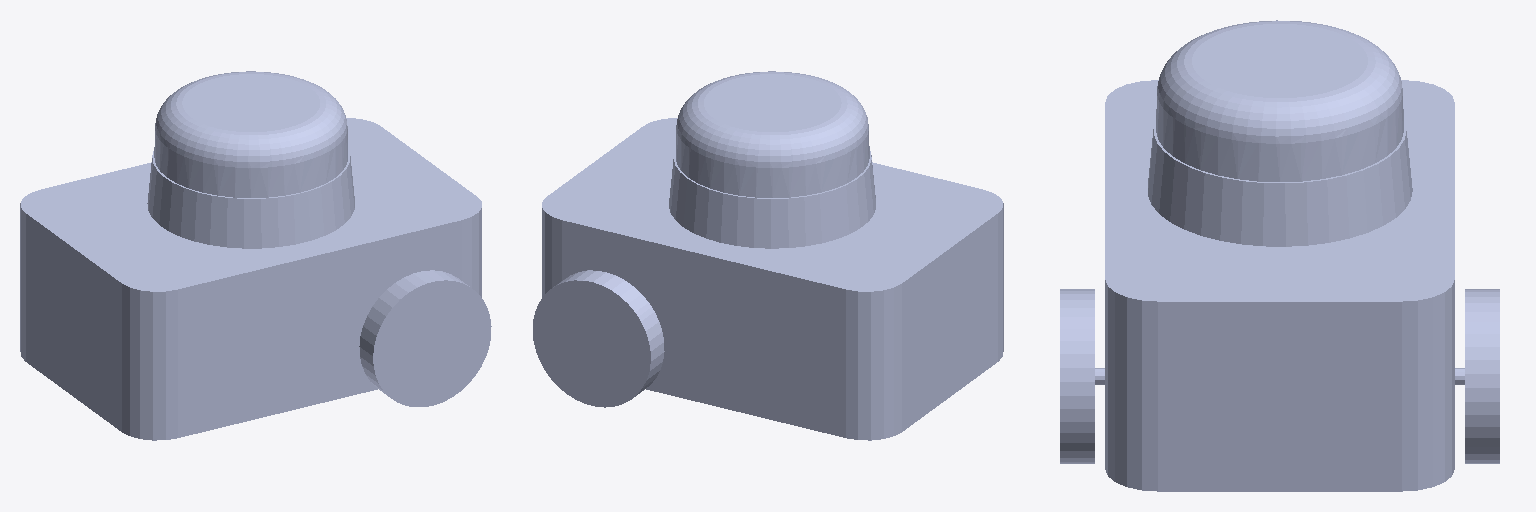
URDF robot description (urdf_robot):
<?xml version="1.0"?>

<robot
  name="urdf_robot">
  <!-- body -->
  <link
    name="base_link">
    <visual>
      <origin
        xyz="0 0 0"
        rpy="0 0 0" />
      <geometry>
        <mesh
          filename="package://urdf_robot/meshes/base_link.STL" />
      </geometry>
      <material
        name="">
        <color
          rgba="0.792156862745098 0.819607843137255 0.933333333333333 1" />
      </material>
    </visual>
    <collision>
      <origin
        xyz="0 0 0"
        rpy="0 0 0" />
      <geometry>
        <mesh
          filename="package://urdf_robot/meshes/base_link.STL" />
      </geometry>
    </collision>
  </link>

  <!-- left wheel -->
  <link
    name="left_wheel">
    <visual>
      <origin
        xyz="0 0 0"
        rpy="0 0 0" />
      <geometry>
        <mesh
          filename="package://urdf_robot/meshes/left_wheel.STL" />
      </geometry>
      <material
        name="">
        <color
          rgba="0.792156862745098 0.819607843137255 0.933333333333333 1" />
      </material>
    </visual>
    <collision>
      <origin
        xyz="0 0 0"
        rpy="0 0 0" />
      <geometry>
        <mesh
          filename="package://urdf_robot/meshes/left_wheel.STL" />
      </geometry>
    </collision>
  </link>
  <joint
    name="left_wheel_joint"
    type="continuous">
    <origin
      xyz="0.04 -0.053 0.02"
      rpy="1.5708 0.99646 0" />
    <parent
      link="base_link" />
    <child
      link="left_wheel" />
    <axis
      xyz="0 0 1" />
  </joint>

  <!-- right wheel -->
  <link
    name="right_wheel">
    <visual>
      <origin
        xyz="0 0 0"
        rpy="0 0 0" />
      <geometry>
        <mesh
          filename="package://urdf_robot/meshes/right_wheel.STL" />
      </geometry>
      <material
        name="">
        <color
          rgba="0.792156862745098 0.819607843137255 0.933333333333333 1" />
      </material>
    </visual>
    <collision>
      <origin
        xyz="0 0 0"
        rpy="0 0 0" />
      <geometry>
        <mesh
          filename="package://urdf_robot/meshes/right_wheel.STL" />
      </geometry>
    </collision>
  </link>
  <joint
    name="right_wheel_joint"
    type="continuous">
    <origin
      xyz="0.04 0.053 0.02"
      rpy="-1.5708 -0.66708 3.1416" />
    <parent
      link="base_link" />
    <child
      link="right_wheel" />
    <axis
      xyz="0 0 1" />
  </joint>

  <!-- lidar -->
  <link
    name="lidar">
    <visual>
      <origin
        xyz="0 0 0"
        rpy="0 0 0" />
      <geometry>
        <mesh
          filename="package://urdf_robot/meshes/lidar.STL" />
      </geometry>
      <material
        name="">
        <color
          rgba="0.792156862745098 0.819607843137255 0.933333333333333 1" />
      </material>
    </visual>
    <collision>
      <origin
        xyz="0 0 0"
        rpy="0 0 0" />
      <geometry>
        <mesh
          filename="package://urdf_robot/meshes/lidar.STL" />
      </geometry>
    </collision>
  </link>
  <joint
    name="lidar_link"
    type="fixed">
    <origin
      xyz="0 0 0.06"
      rpy="1.5708 0 0" />
    <parent
      link="base_link" />
    <child
      link="lidar" />
    <axis
      xyz="0 0 0" />
  </joint>
</robot>

--- Render facts (derived) ---
3 views of the same robot in one strip: view 1: azimuth 30°, elevation 25°; view 2: azimuth 150°, elevation 25°; view 3: azimuth 270°, elevation 25° (orthographic).
Robot: urdf_robot — 4 links, 3 joints (2 continuous, 1 fixed); root link base_link; default pose: all joints at 0.
Links seen in each view (by area): view 1: base_link, lidar, left_wheel; view 2: base_link, lidar, right_wheel; view 3: base_link, lidar, left_wheel, right_wheel.
Link boxes in pixels (left/top/right/bottom): base_link: left=20, top=118, right=481, bottom=440; lidar: left=147, top=71, right=354, bottom=248; left_wheel: left=359, top=270, right=491, bottom=406; base_link: left=542, top=118, right=1003, bottom=440; lidar: left=669, top=71, right=875, bottom=248; right_wheel: left=533, top=270, right=664, bottom=407; base_link: left=1095, top=80, right=1464, bottom=491; lidar: left=1148, top=20, right=1412, bottom=246; left_wheel: left=1060, top=289, right=1094, bottom=463; right_wheel: left=1465, top=289, right=1499, bottom=463.
Bounding box of the posed robot: 0.15 × 0.126 × 0.106 m (x, y, z).
Meshes: 4 distinct files referenced, 4 mesh visuals loaded (4 binary STL).